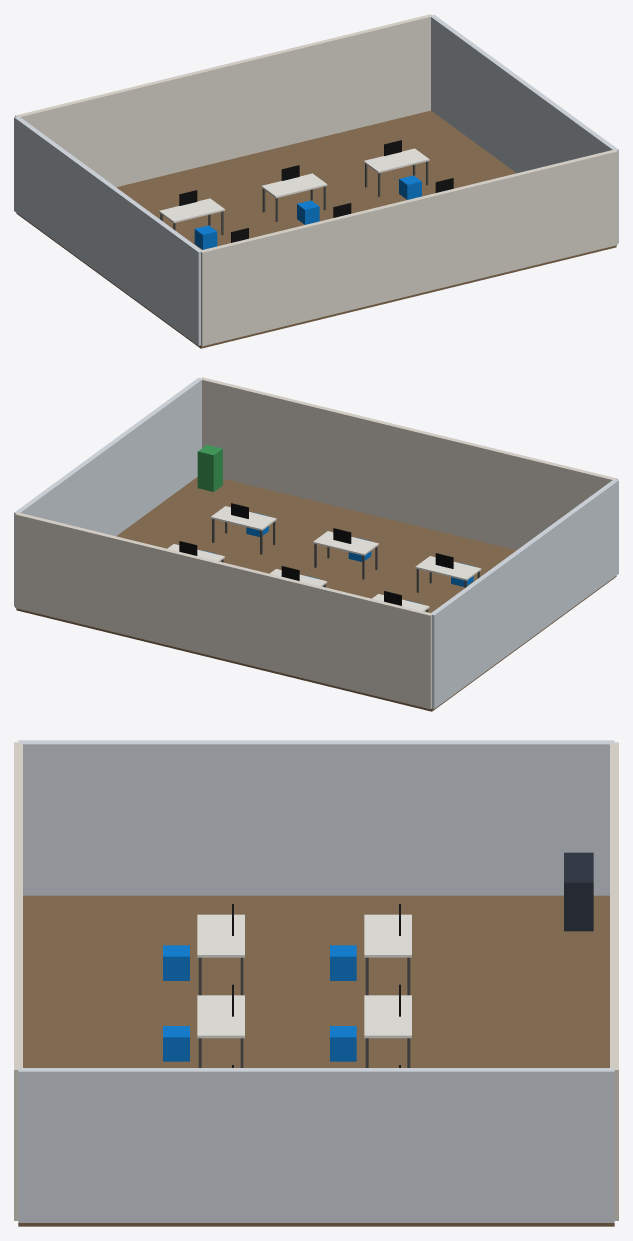
File: sample-scan.glb
3 views of the same model, one above another, from view 1: azimuth 30°, elevation 25°; view 2: azimuth 150°, elevation 25°; view 3: azimuth 270°, elevation 25° (orthographic). The views are drawn at different scales.
Bounding box in the file's own units: 13.15 × 2.9 × 10.15.
